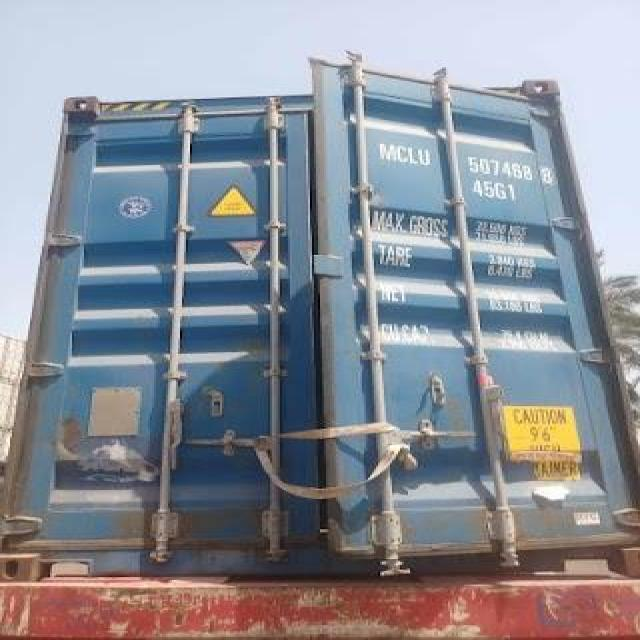ISO: (474, 180, 516, 201)
container_number: (383, 143, 553, 178)
